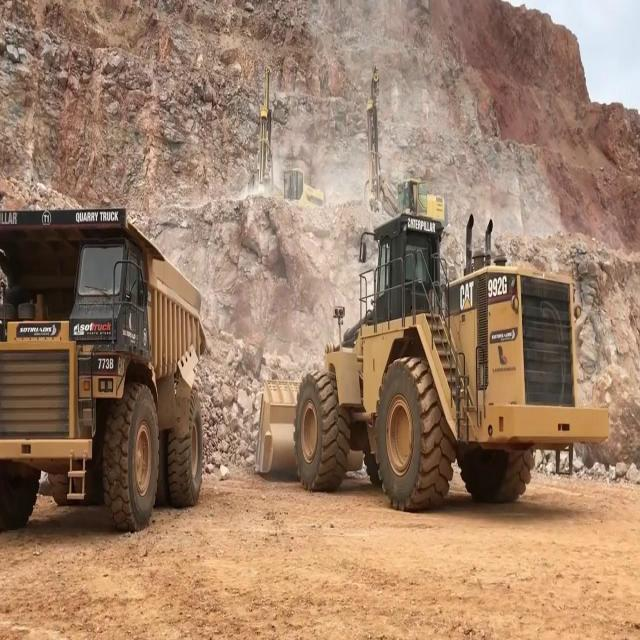Dump Truck: (0, 205, 210, 536)
Loader: (251, 206, 611, 512)
